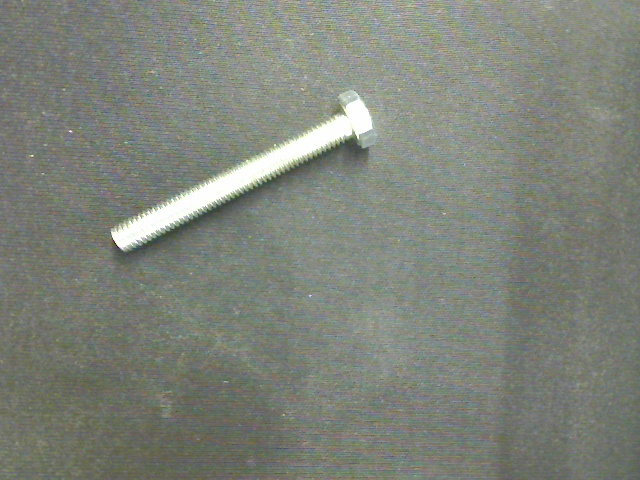Screw: (111, 89, 375, 252)
